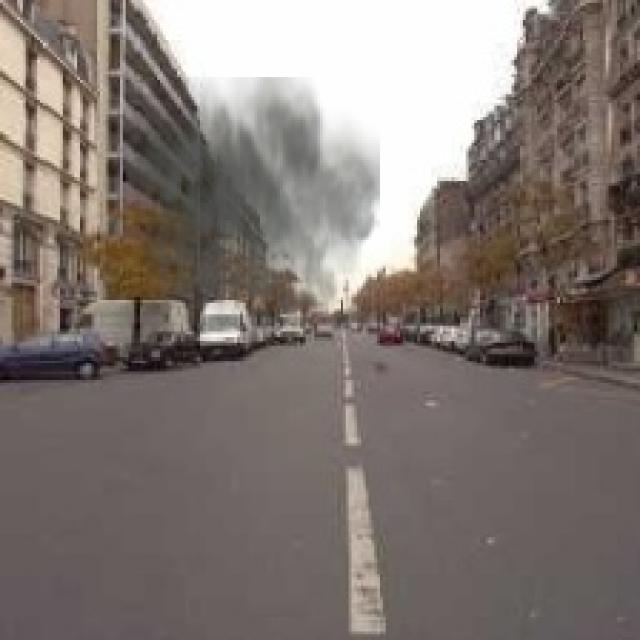Smoke: (120, 77, 380, 349)
